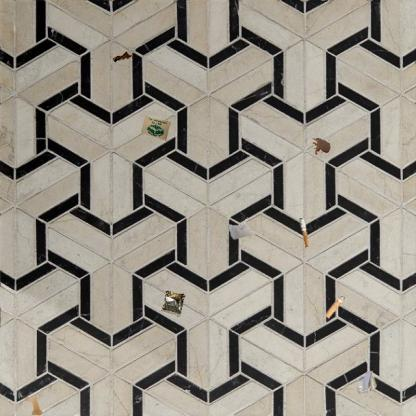dirty: (140, 115, 171, 141), (226, 216, 256, 241), (352, 369, 378, 396), (160, 288, 185, 316), (324, 294, 344, 320), (297, 216, 312, 248), (110, 49, 132, 65)
liquid: (23, 394, 43, 416), (312, 136, 332, 156)
